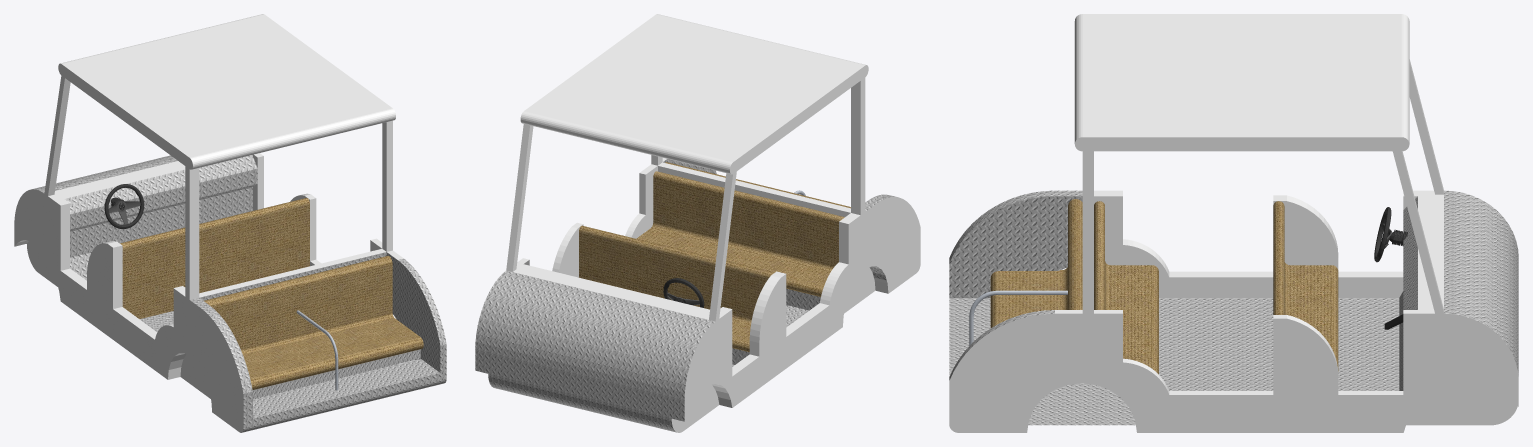
File: no_wheels.dae
The picture shows the model from 3 angles, left to right: view 1: azimuth 30°, elevation 25°; view 2: azimuth 150°, elevation 25°; view 3: azimuth 270°, elevation 25°; orthographic projection. The views are drawn at different scales.
Parts seen in each view (by area): view 1: skp3EAJSN (×4), Component_6 (×2), Component_2, Component_3; view 2: skp3EAJSN (×5), Component_2; view 3: skp3EAJSN (×5), Component_6 (×2), Component_2.
Part boxes in pixels (left/top/right/bottom): skp3EAJSN (×4): left=14, top=14, right=446, bottom=432; Component_6 (×2): left=203, top=255, right=423, bottom=399; Component_2: left=120, top=198, right=309, bottom=318; Component_3: left=104, top=184, right=144, bottom=229; skp3EAJSN (×5): left=475, top=14, right=920, bottom=432; Component_2: left=579, top=225, right=774, bottom=352; skp3EAJSN (×5): left=949, top=14, right=1518, bottom=432; Component_6 (×2): left=969, top=199, right=1082, bottom=345; Component_2: left=1273, top=201, right=1338, bottom=371.
Size of the model in its own units: 51.18 by 100 by 57.29.
